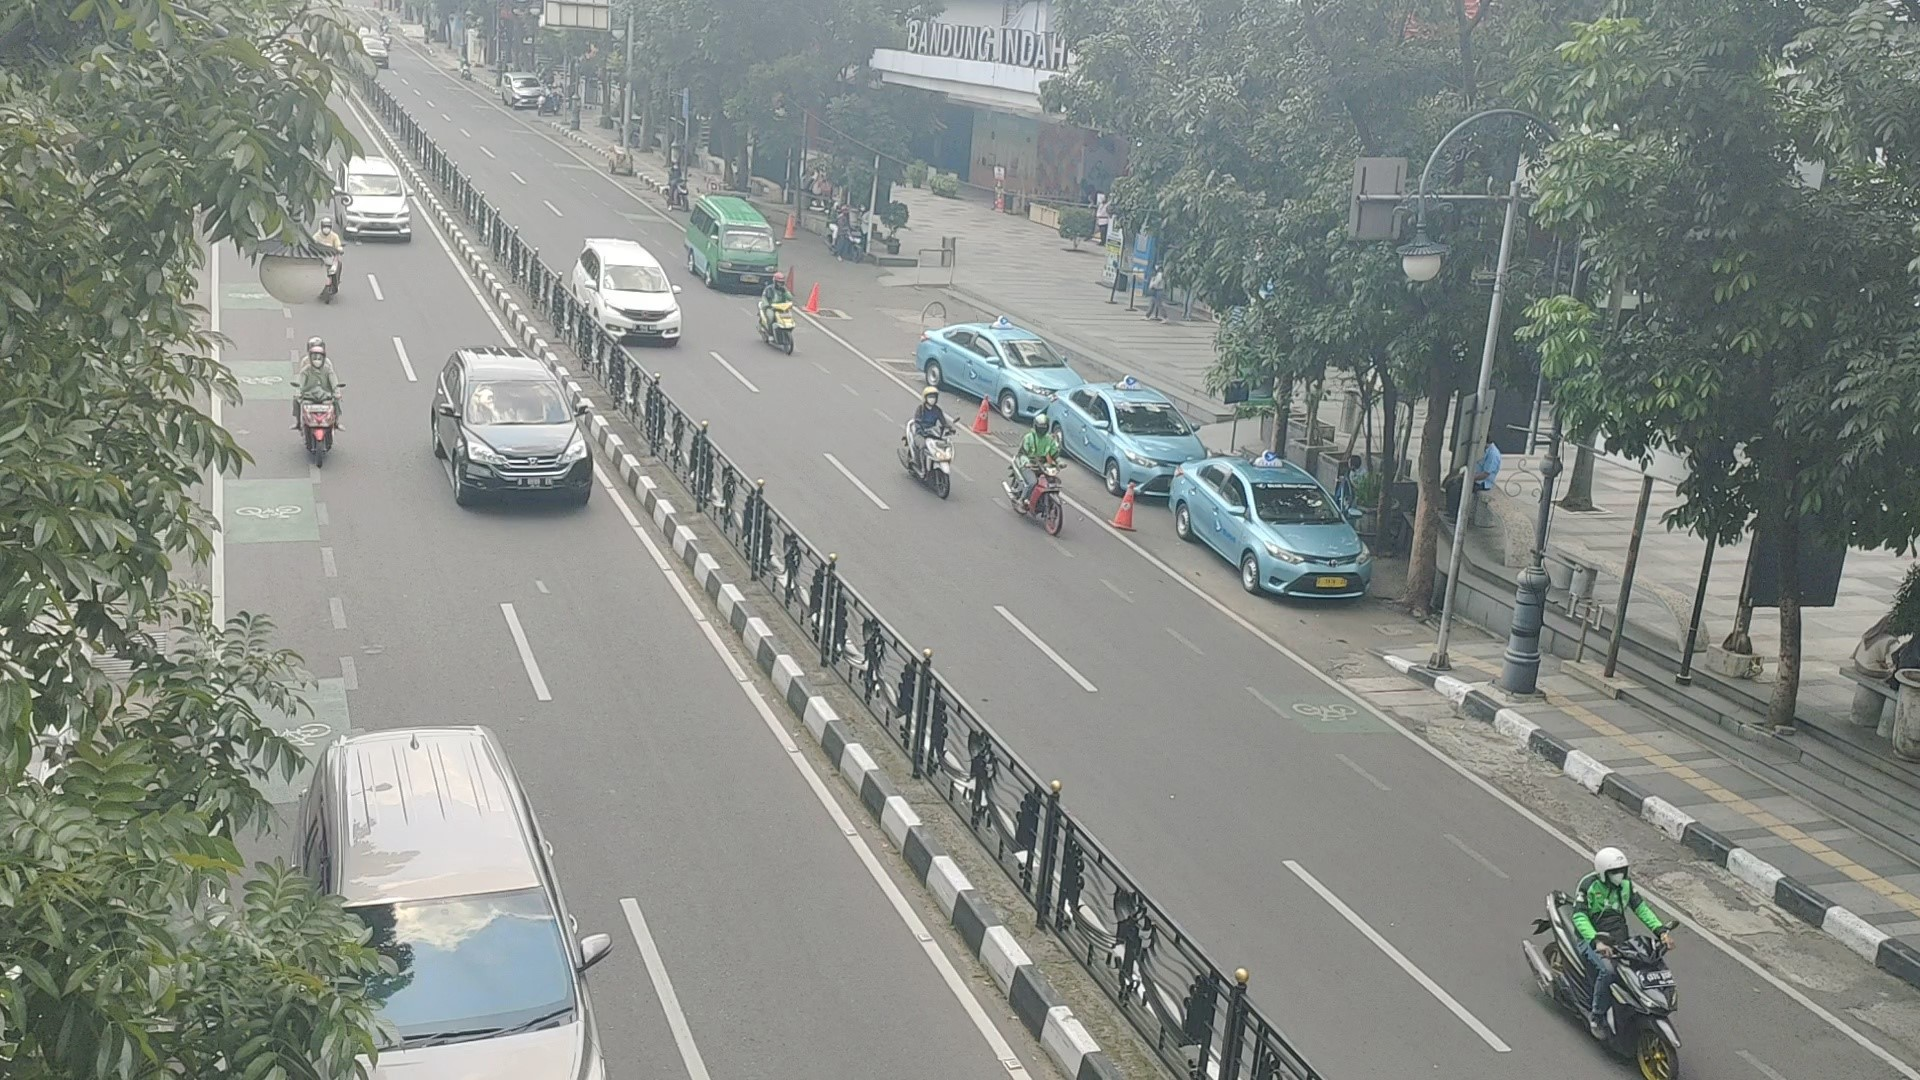mobil: (293, 719, 618, 1080), (1168, 448, 1375, 607), (421, 345, 601, 510), (1043, 377, 1204, 496), (913, 315, 1087, 425), (568, 232, 684, 349), (679, 196, 781, 290), (328, 153, 419, 243)
motor: (1518, 841, 1691, 1080), (280, 338, 348, 473), (1005, 417, 1069, 535), (897, 386, 960, 502), (752, 269, 804, 357)
